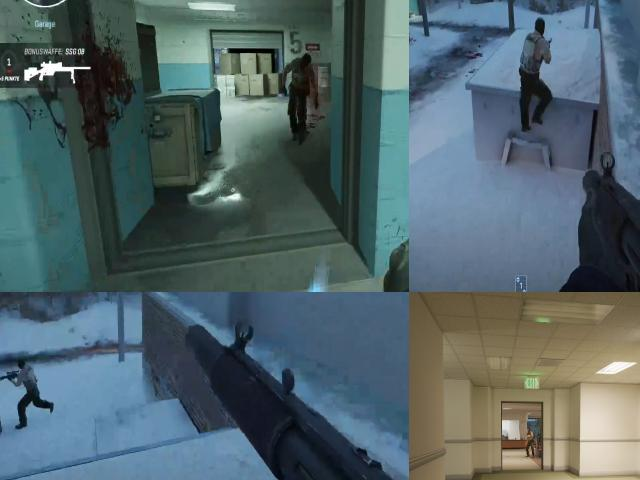Dead: (282, 52, 320, 119)
T: (515, 32, 554, 76), (9, 354, 42, 401), (525, 426, 534, 456)
T-Head: (532, 17, 550, 37), (16, 357, 29, 373), (528, 427, 532, 431)
